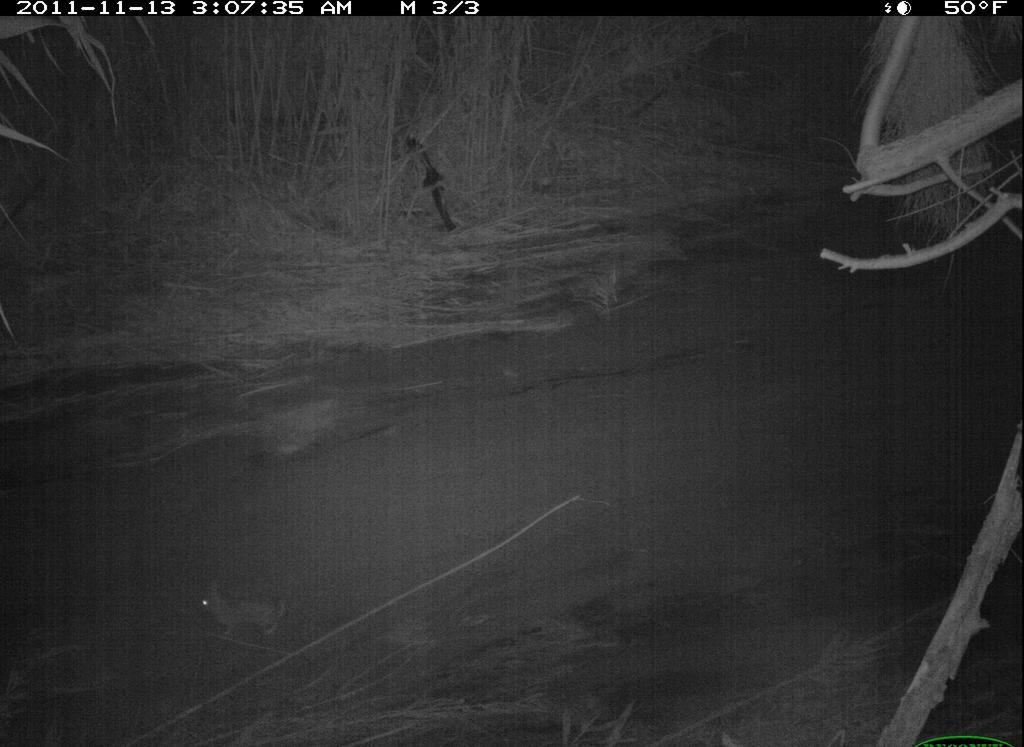rabbit: (191, 566, 309, 664)
